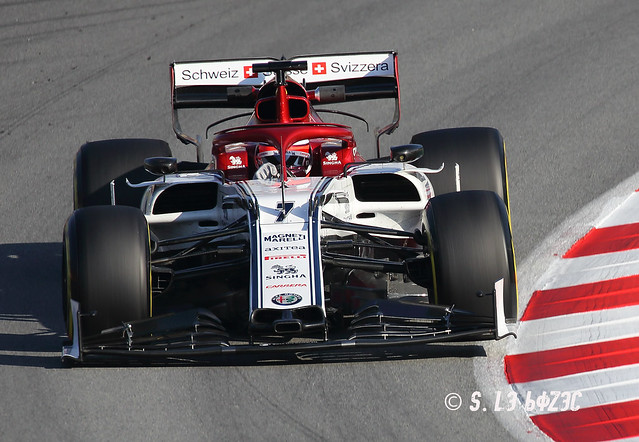F1 Car: (54, 41, 527, 366)
